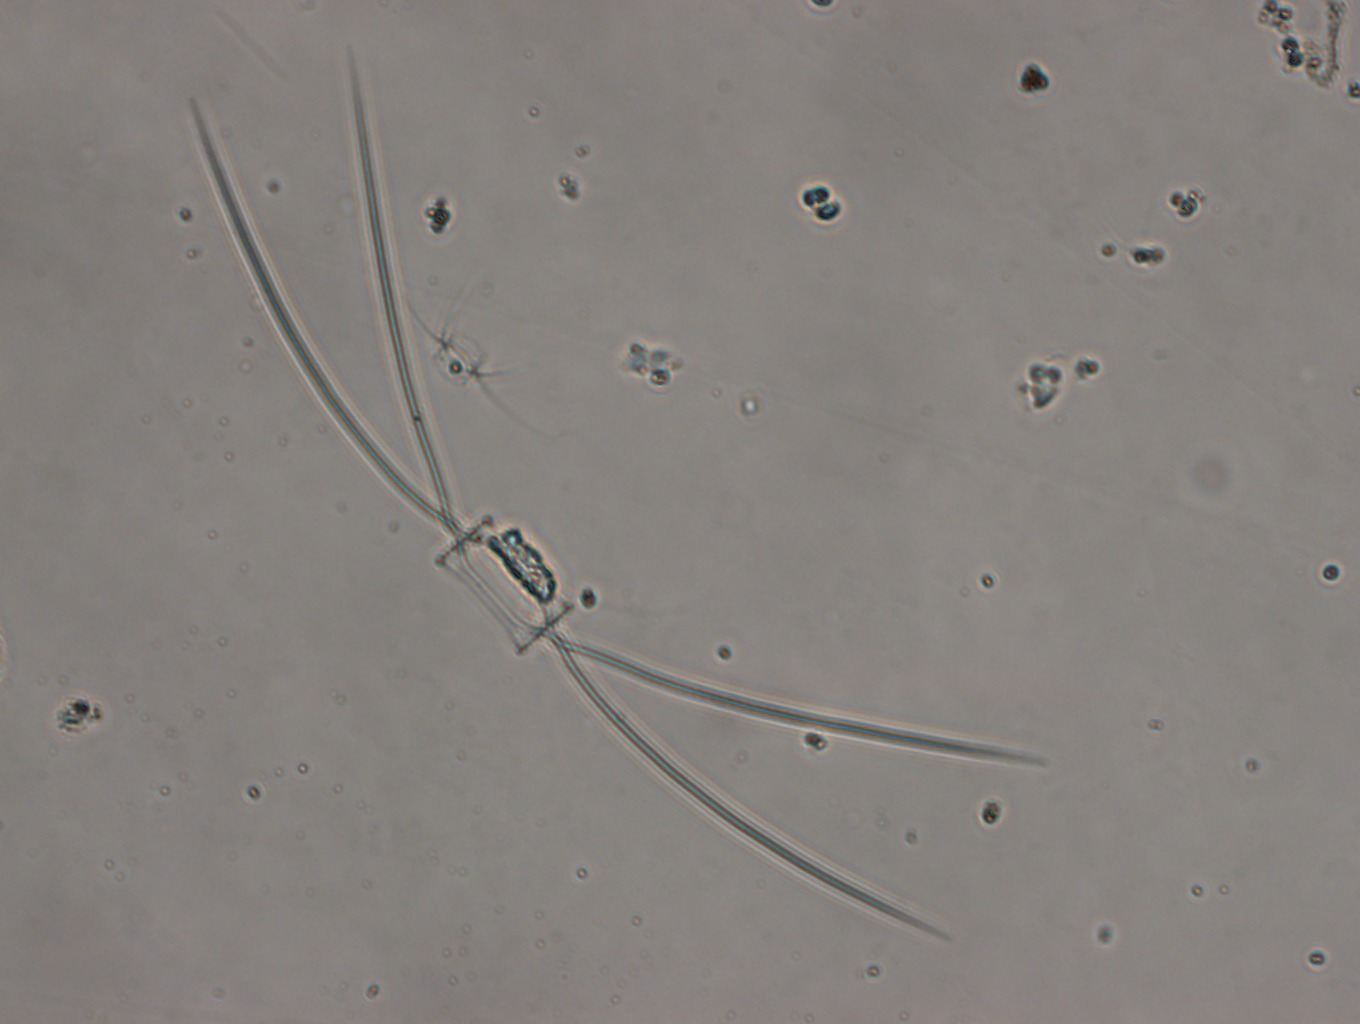chaetoceros: (184, 41, 1046, 944)
